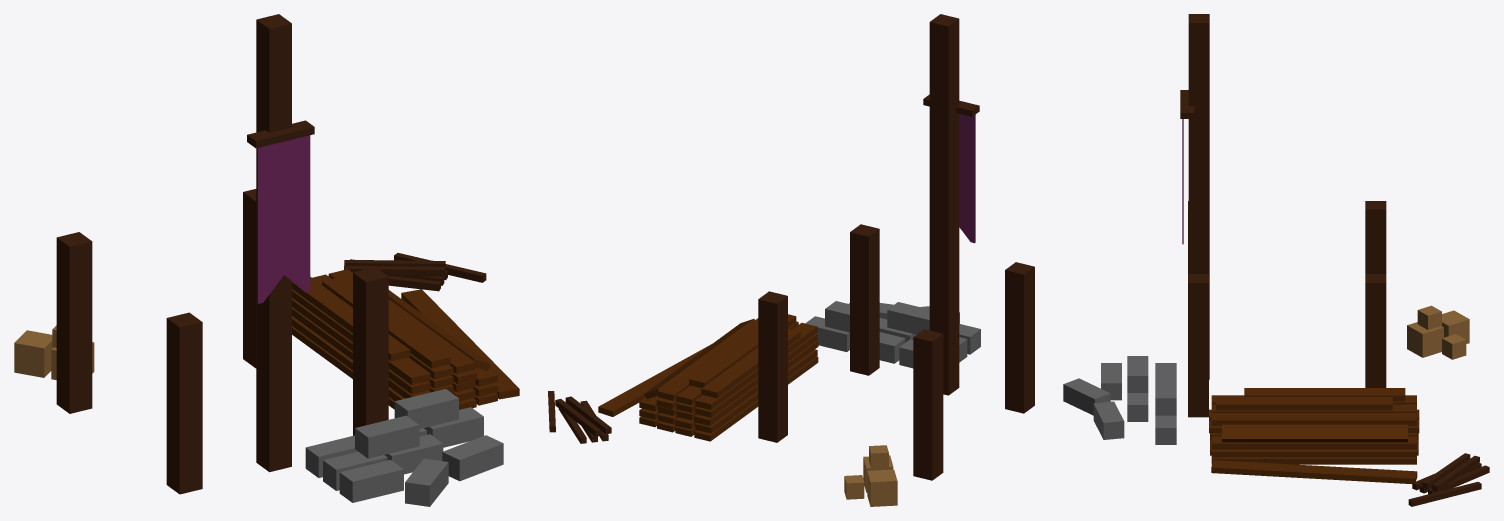
Rendered from FarmBuildPhase1v1.fbx.
3 views of the same model, side by side, from view 1: azimuth 30°, elevation 25°; view 2: azimuth 150°, elevation 25°; view 3: azimuth 270°, elevation 25° (orthographic). The views are drawn at different scales.
Parts seen in each view (by area): view 1: Cube.2751; view 2: Cube.2751; view 3: Cube.2751.
Part boxes in pixels (bbox=[...]): Cube.2751: bbox=[14, 14, 519, 506]; Cube.2751: bbox=[548, 14, 1034, 506]; Cube.2751: bbox=[1063, 14, 1489, 506].
Size of the model in its own units: 133 by 126 by 137.
